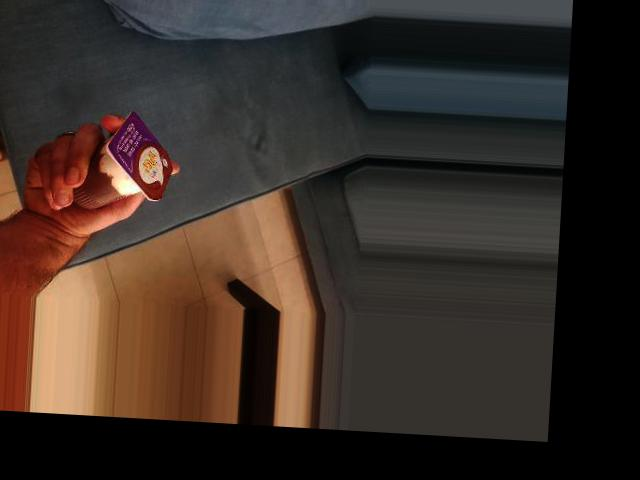milky: (143, 6, 245, 121)
